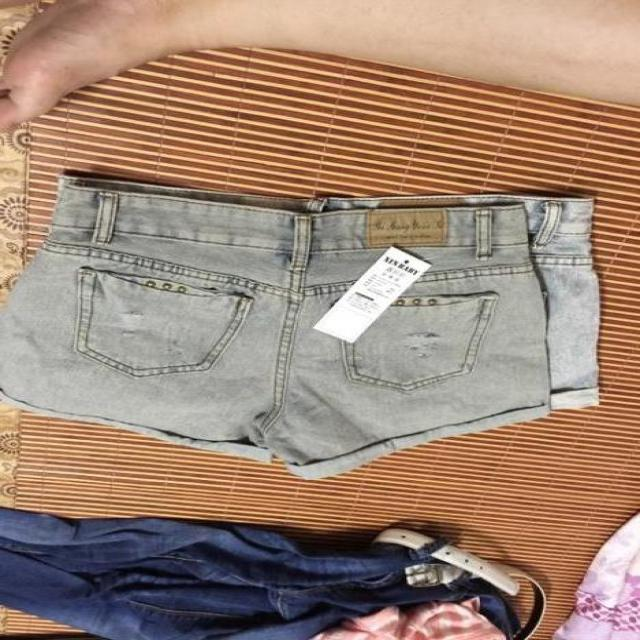shorts: (31, 157, 605, 504)
